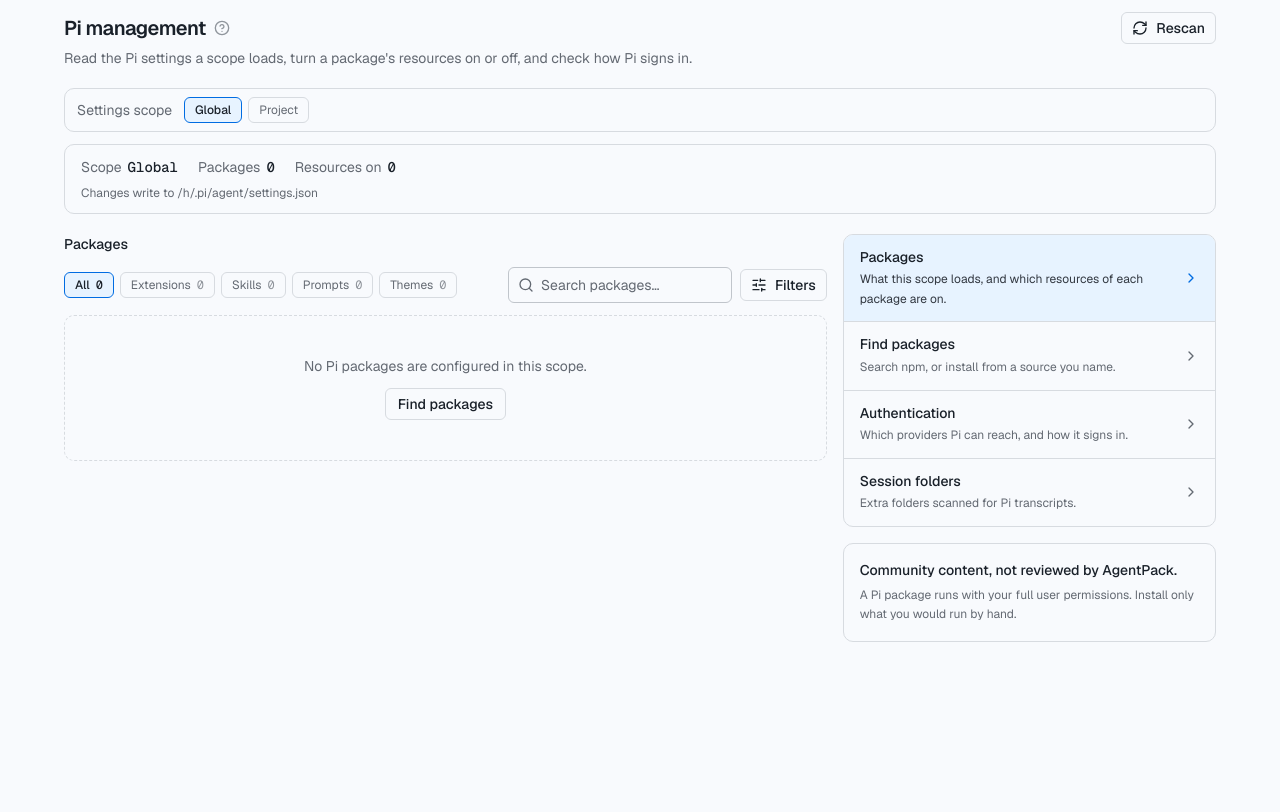
Test: reports the project's trust state and warns that approving passes --approve
Click the button "Project" at {"x": 279, "y": 110}, box x1=248 y1=97 x2=309 y2=123
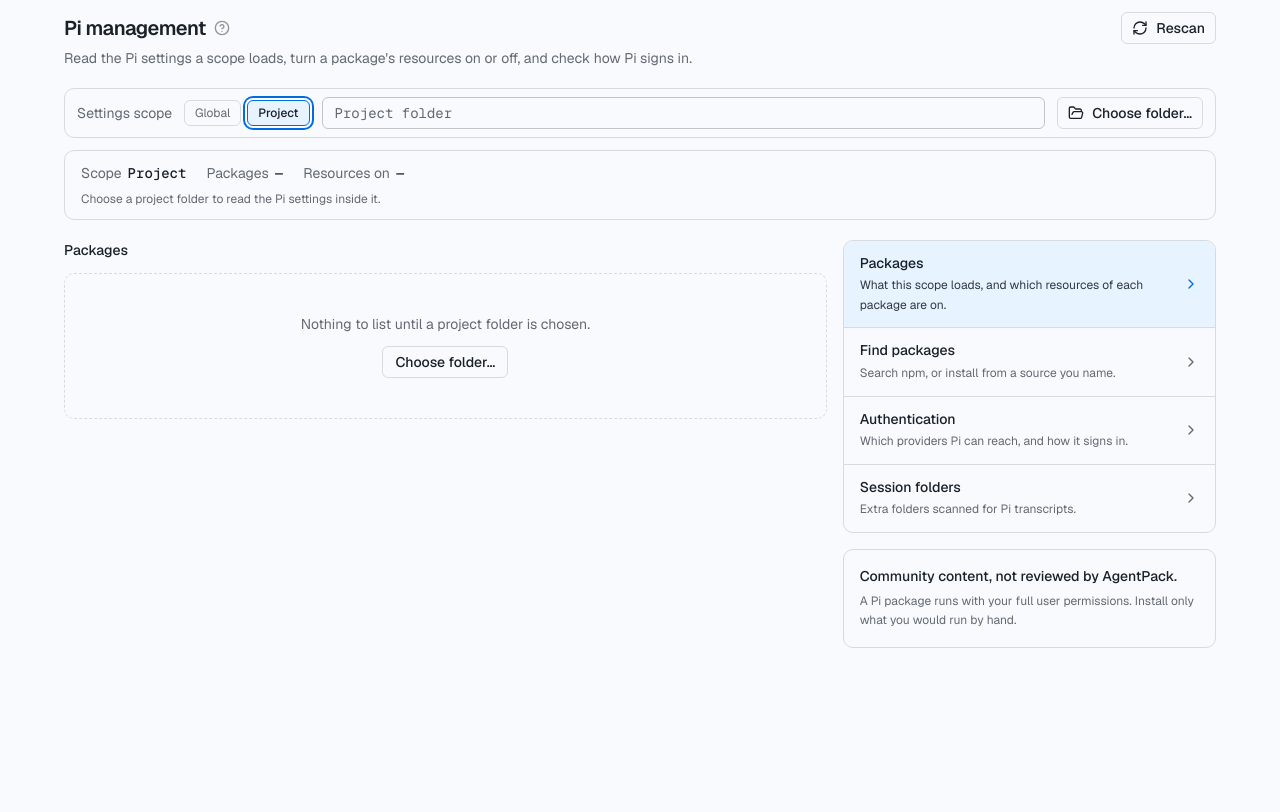
Click the button "Choose folder…" in the row of "Settings scope" at {"x": 1130, "y": 113}, box x1=1057 y1=97 x2=1203 y2=129
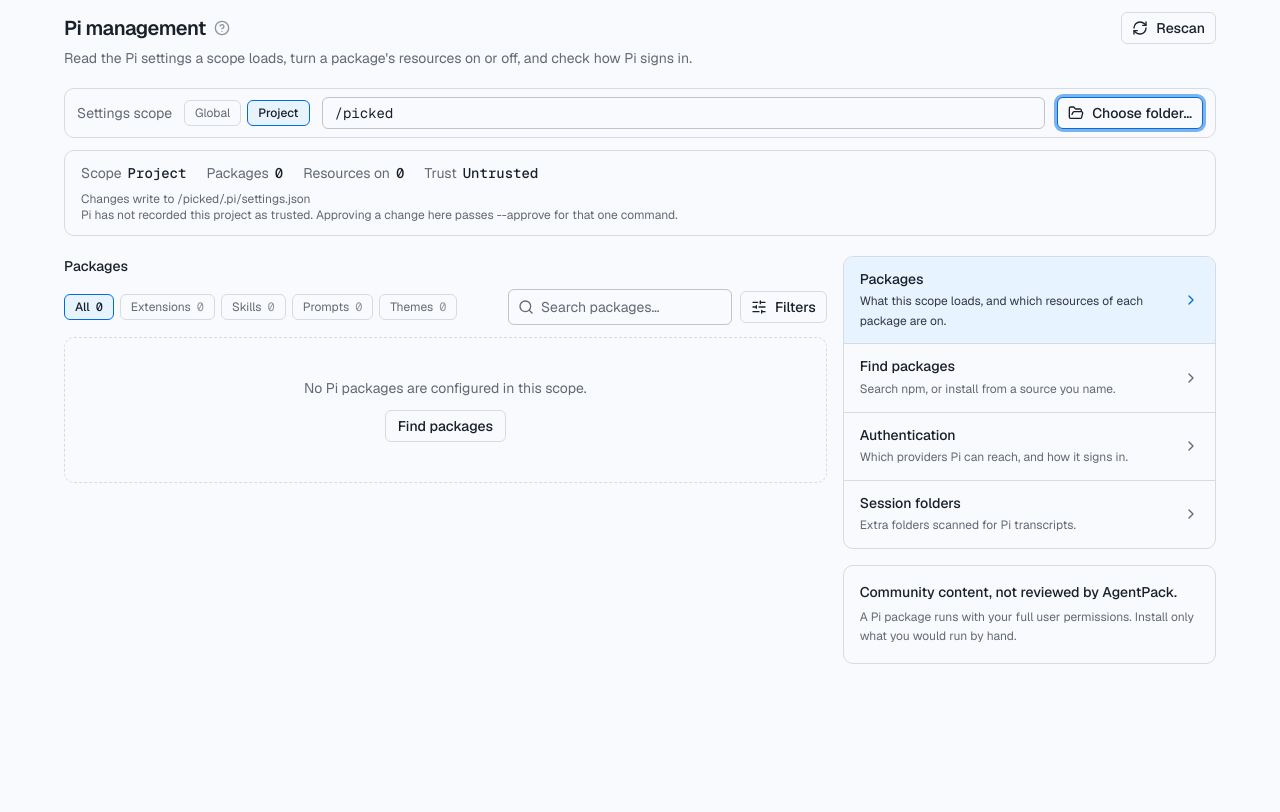
Result: the text "Untrusted" is shown at x1=463 y1=163 x2=538 y2=185
Result: the text "Pi has not recorded this project as trusted. Approving a change here passes --approve for that one command." is shown at x1=81 y1=207 x2=678 y2=223
